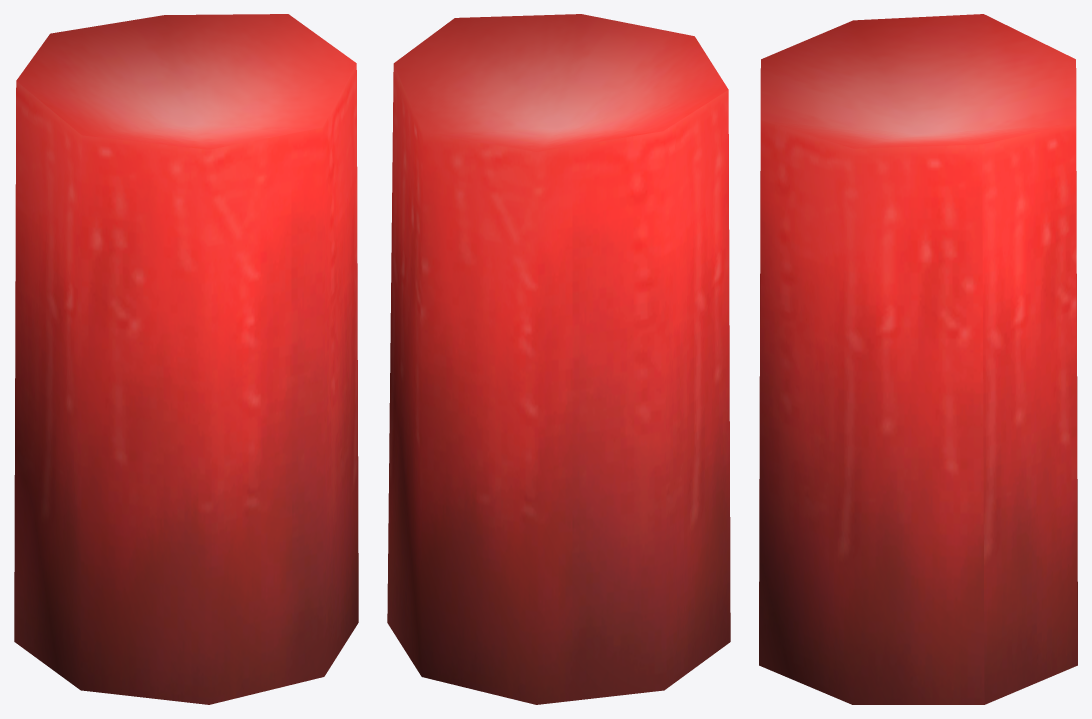
Rendered from dub_lounge_candle_01_on_lod2.glb.
The picture shows the model from 3 angles, left to right: view 1: azimuth 30°, elevation 25°; view 2: azimuth 150°, elevation 25°; view 3: azimuth 270°, elevation 25°; orthographic projection.
Visible parts, largest first — view 1: surf0; view 2: surf0; view 3: surf0.
Part boxes in pixels (x1,y1,x2,y2): surf0: (14,14,358,704); surf0: (387,14,730,704); surf0: (759,14,1077,704).
Size of the model in its own units: 3.37 by 6.51 by 3.37.
